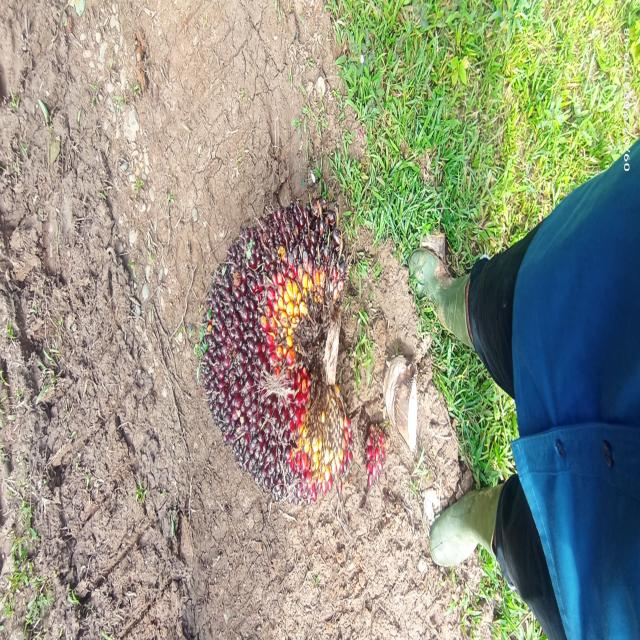fraksi 1: (169, 152, 385, 526)
